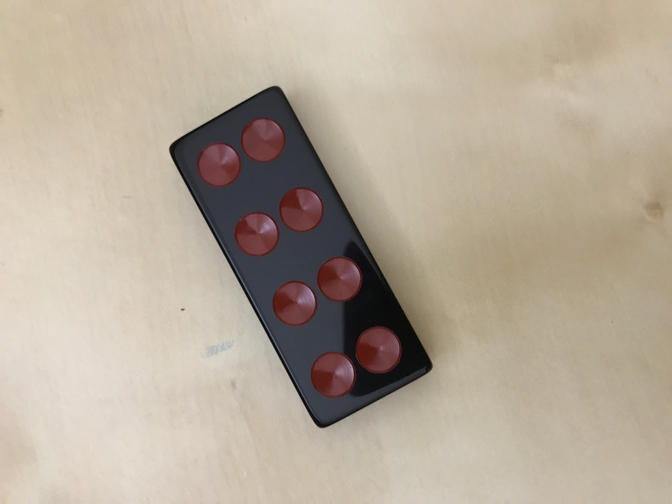man: (168, 85, 433, 429)
